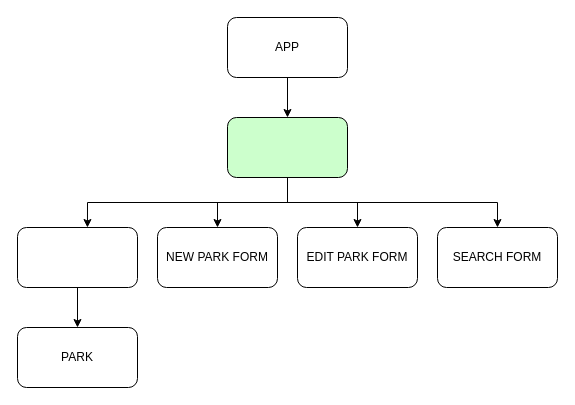
This 575x405 diagram has some shape labels left out. The centre of each missing label's shape, as x and y in pixels:
"PARK CONTROL *stateful" goes at pixel 287 147.
"PARK LIST" goes at pixel 77 257.
